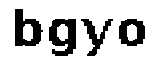b: (8, 5, 43, 50)
g: (43, 12, 79, 60)
o: (117, 15, 150, 51)
y: (81, 14, 113, 59)
